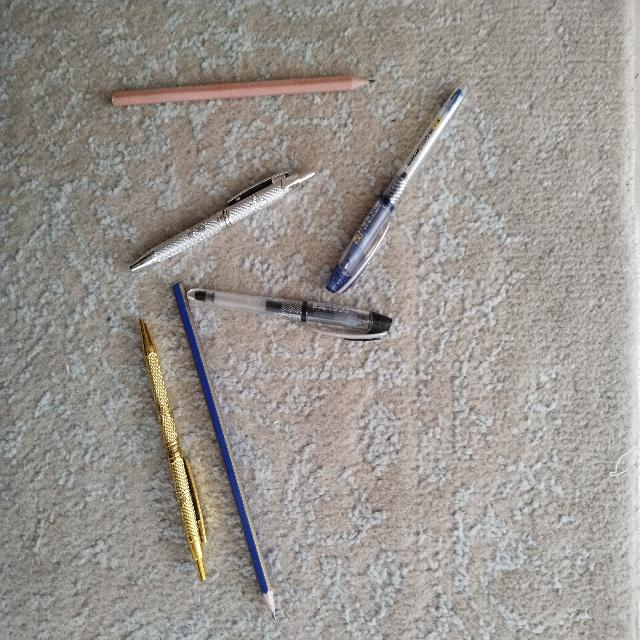pen: (326, 88, 463, 292), (187, 289, 391, 339)
pencil: (173, 283, 275, 618), (112, 76, 369, 105)
signature pen: (130, 172, 314, 270), (140, 320, 205, 579)
